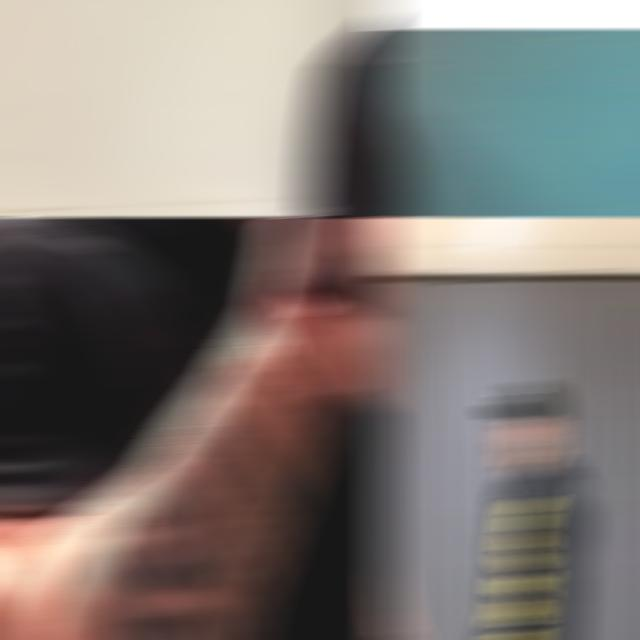Knife: (286, 218, 370, 307)
Knife_Handle: (280, 218, 394, 412)
